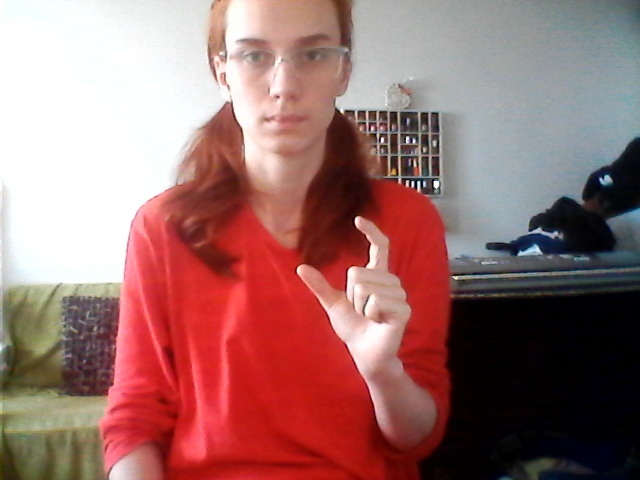c: (292, 211, 419, 365)
